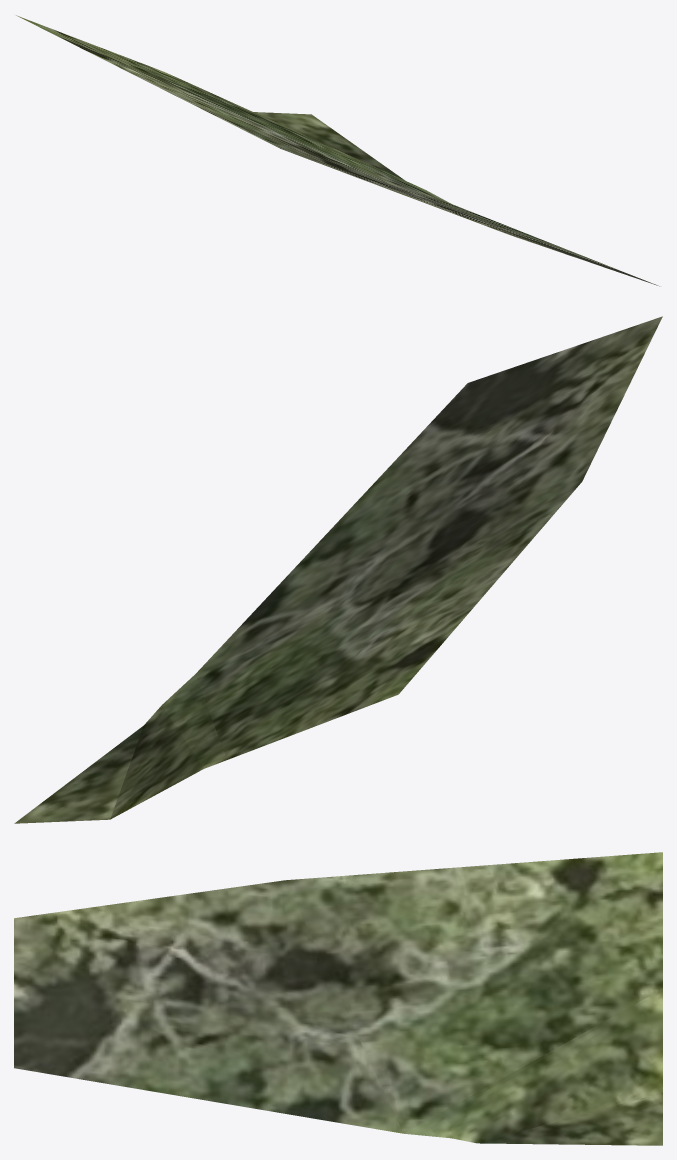
3 views of the same model, one above another, from view 1: azimuth 30°, elevation 25°; view 2: azimuth 150°, elevation 25°; view 3: azimuth 270°, elevation 25° (orthographic). The views are drawn at different scales.
Size of the model in its own units: 1.44 by 0.7995 by 2.95.
Materials: 1 (1 with a texture image).
